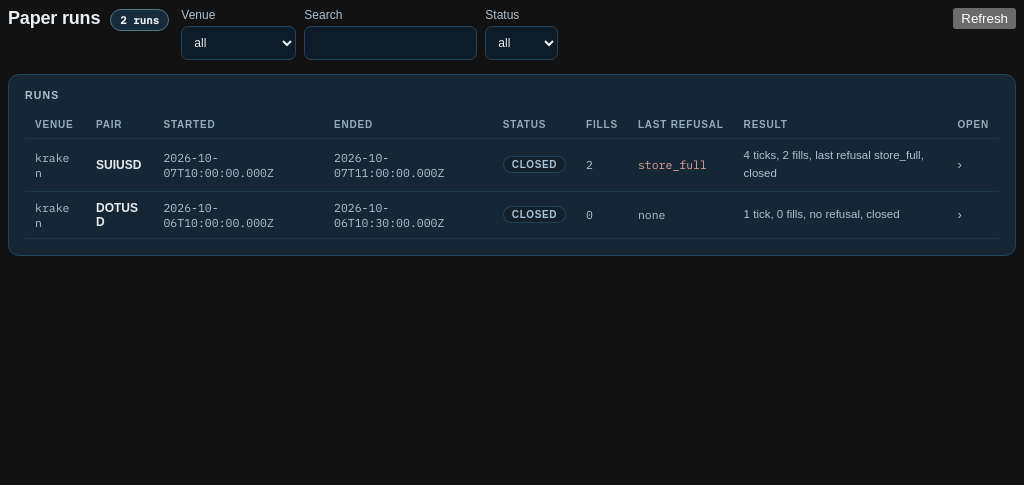
Test: LastRunsPanel — detail fills table › closing the detail panel hides the summary and the fills together
Expected: the table with test id "paper-last-runs-table" is shown, x1=25 y1=111 x2=999 y2=239
Click the row with test id "paper-last-runs-row-kraken-SUIUSD". click: [512, 165]
box: x1=25 y1=138 x2=999 y2=191
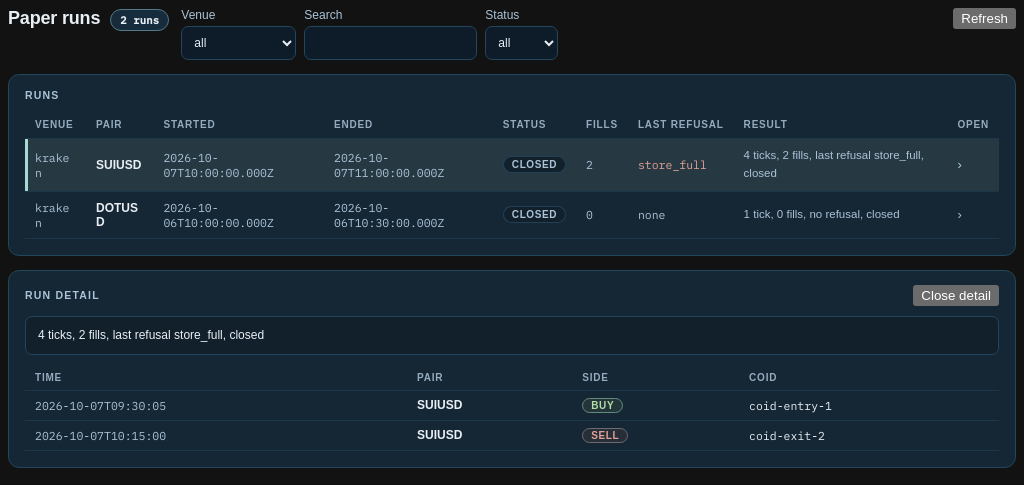
Expected: the table with test id "paper-last-runs-fills-table" is shown, x1=25 y1=365 x2=999 y2=451
Expected: the text "4 ticks, 2 fills, last refusal store_full, closed" is shown, x1=25 y1=316 x2=999 y2=355
Click the button with test id "paper-last-runs-detail-close". click: [956, 295]
box: x1=913 y1=285 x2=999 y2=306
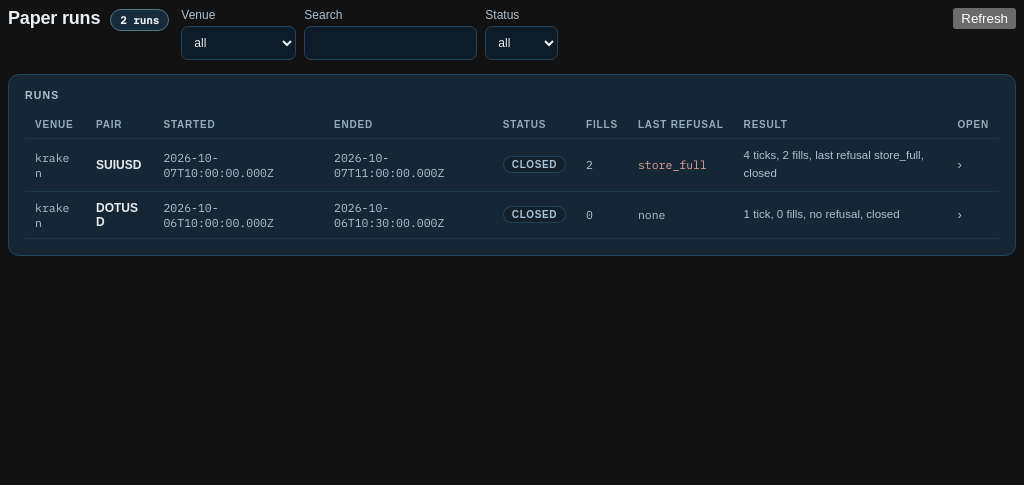
Expected: the element with test id "paper-last-runs-detail" is gone
Expected: the table with test id "paper-last-runs-fills-table" is gone
Expected: the text with test id "paper-last-runs-detail-summary" is gone
